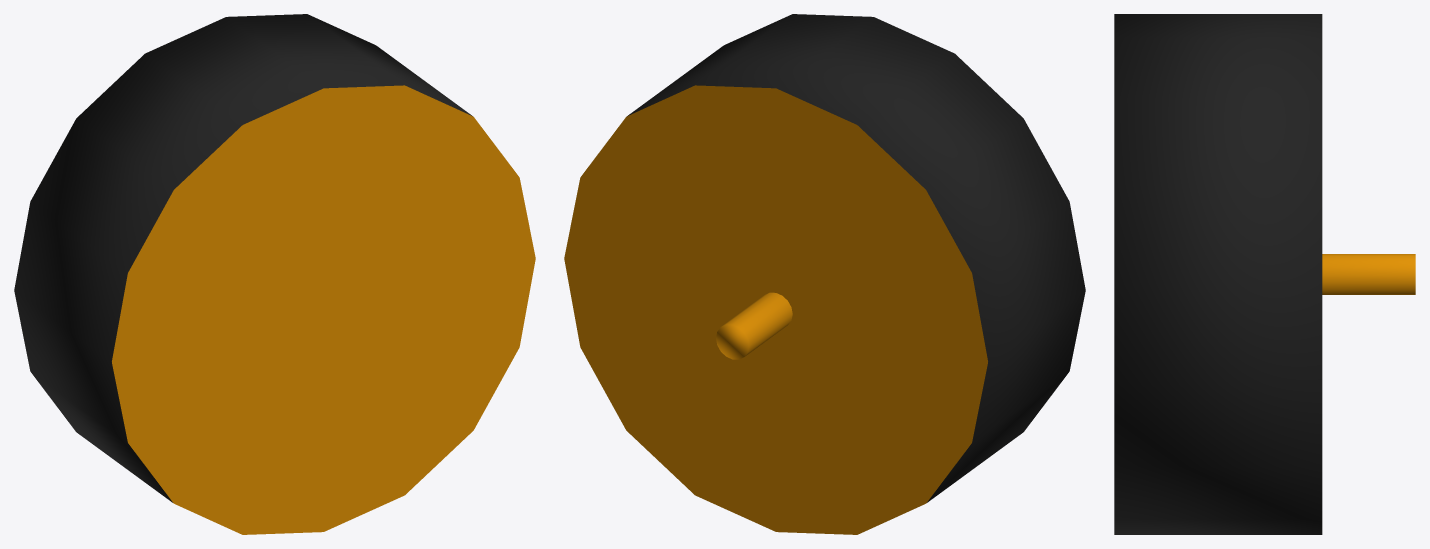
The model's file is smartcar-wheel.glb.
3 renders of one model, left to right at view 1: azimuth 30°, elevation 25°; view 2: azimuth 150°, elevation 25°; view 3: azimuth 270°, elevation 25°, orthographic. The views are drawn at different scales.
Parts seen in each view (by area): view 1: Wheel; view 2: Wheel; view 3: Wheel.
Part boxes in pixels (box(x1,y1,x2,y2)): Wheel: box(14, 14, 535, 534); Wheel: box(564, 14, 1085, 534); Wheel: box(1114, 14, 1415, 534).
Size of the model in its own units: 1.15 by 1.15 by 0.6621.
